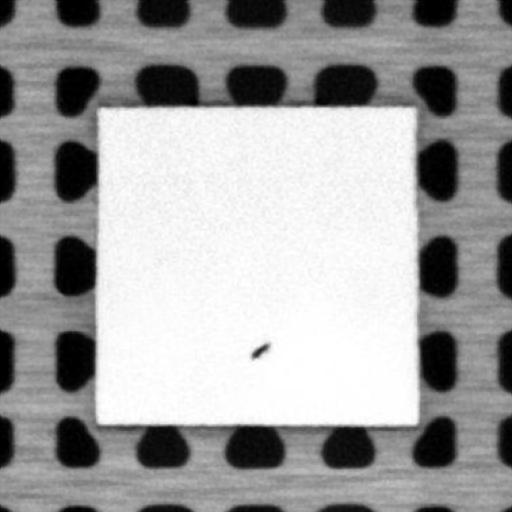DIE_INK: (249, 340, 271, 358)
